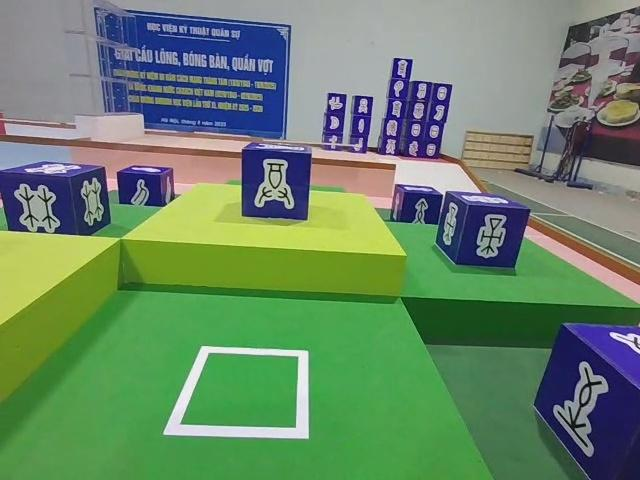R2 Real Blue: (532, 325, 639, 480), (2, 163, 112, 240), (437, 191, 531, 270), (241, 141, 314, 222), (116, 164, 175, 208), (391, 186, 445, 227)
